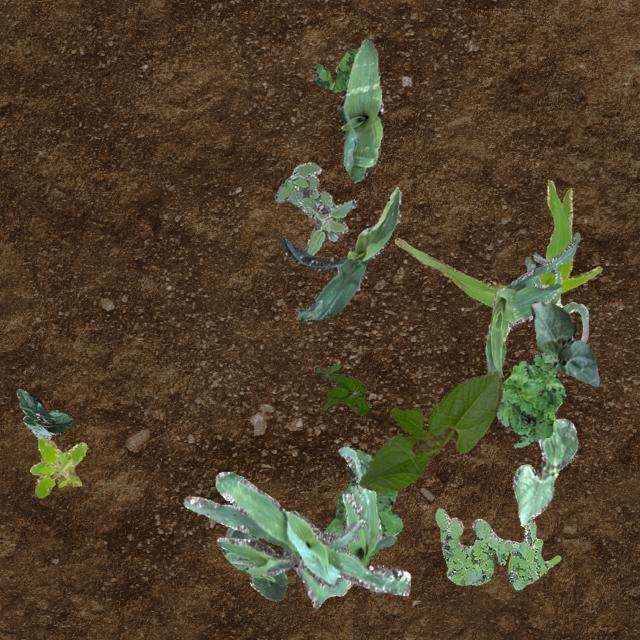crop: (183, 470, 410, 594), (394, 178, 600, 306), (356, 372, 501, 492), (294, 446, 396, 608), (278, 186, 401, 320), (484, 230, 580, 376), (512, 418, 578, 526), (337, 35, 382, 184), (530, 300, 598, 386), (524, 252, 588, 342), (220, 526, 286, 600), (16, 388, 72, 438)
weed: (434, 506, 560, 588), (324, 446, 402, 562), (274, 160, 356, 254), (494, 352, 566, 446), (28, 436, 88, 496), (314, 362, 368, 414), (311, 48, 355, 90)
